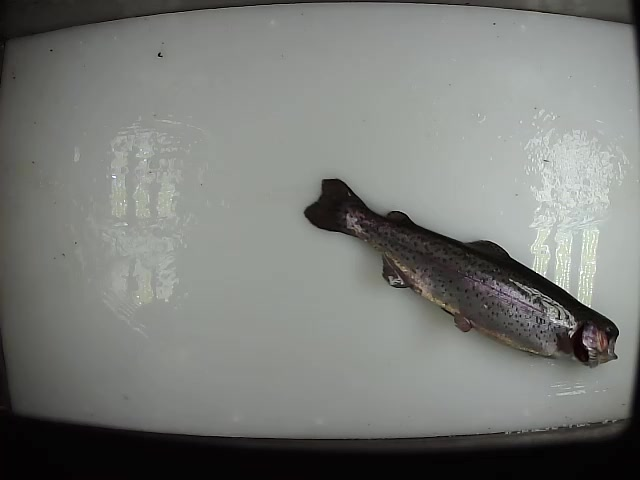Fish: (303, 178, 619, 367)
